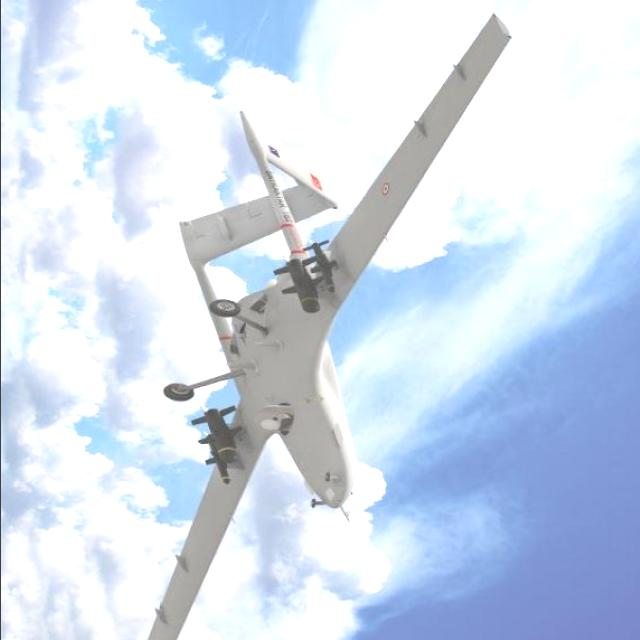plane: (140, 11, 515, 640)
